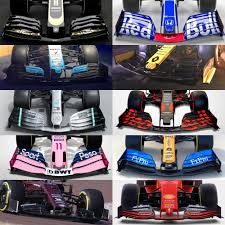f1_car: (115, 178, 225, 224), (1, 179, 108, 225), (3, 134, 114, 178), (113, 44, 225, 86), (114, 90, 223, 133), (114, 134, 225, 176), (5, 90, 110, 134), (3, 44, 110, 87), (112, 1, 224, 42), (1, 1, 110, 43)
